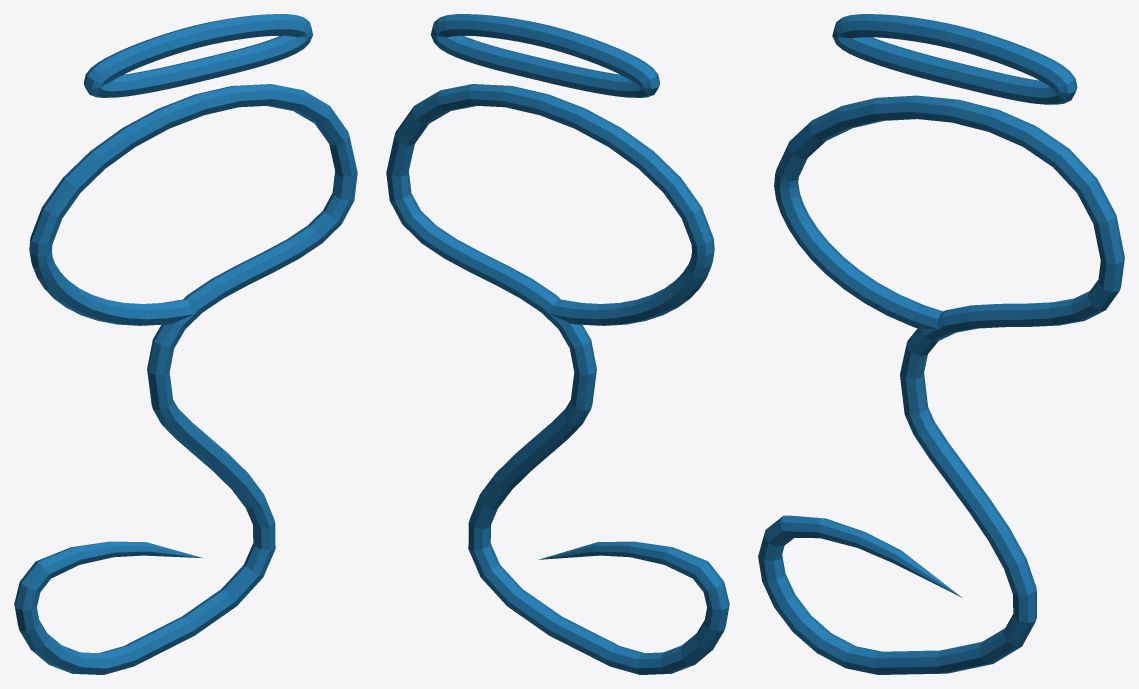
The model's file is angel.obj.
3 views of the same model, side by side, from view 1: azimuth 30°, elevation 25°; view 2: azimuth 150°, elevation 25°; view 3: azimuth 330°, elevation 25° (orthographic). The views are drawn at different scales.
Visible parts, largest first — view 1: BezierCurve_Mesh; view 2: BezierCurve_Mesh; view 3: BezierCurve_Mesh.
Part boxes in pixels (left/top/right/bottom): BezierCurve_Mesh: left=14, top=14, right=357, bottom=674; BezierCurve_Mesh: left=386, top=14, right=729, bottom=674; BezierCurve_Mesh: left=758, top=14, right=1124, bottom=674.
Bounding box in the file's own units: 0.3669 × 0.6428 × 0.0218.
